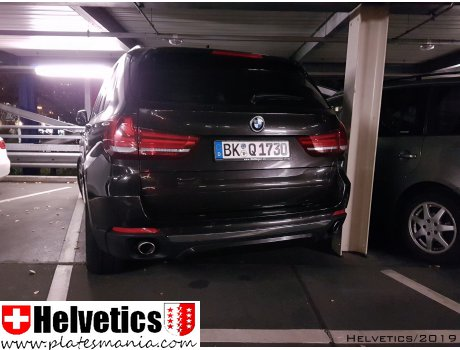License Plates: (221, 140, 286, 156)
